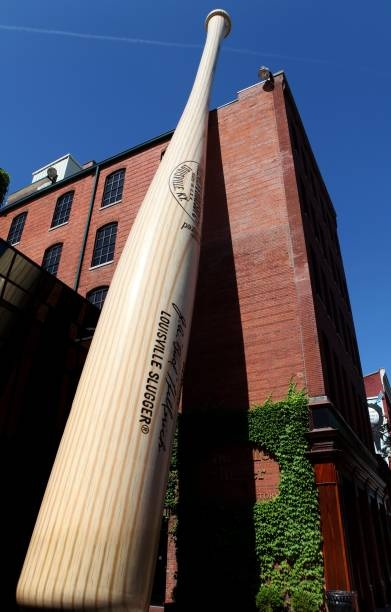bita: (20, 8, 231, 612)
